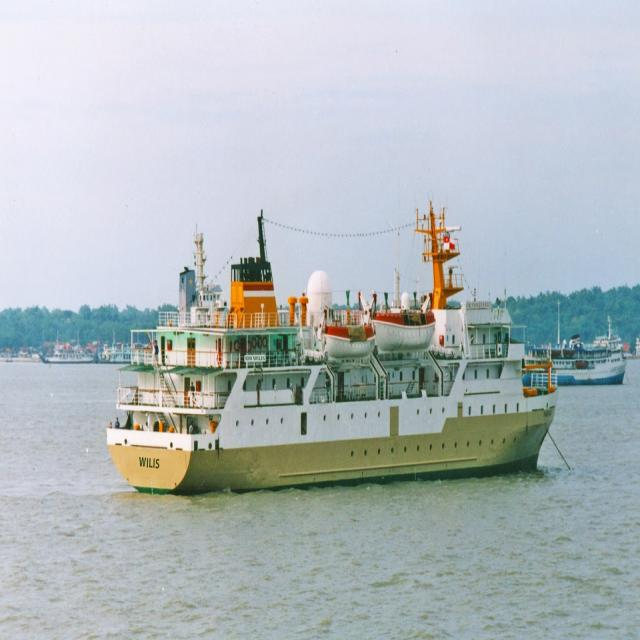PassengerShip: (70, 191, 574, 545)
